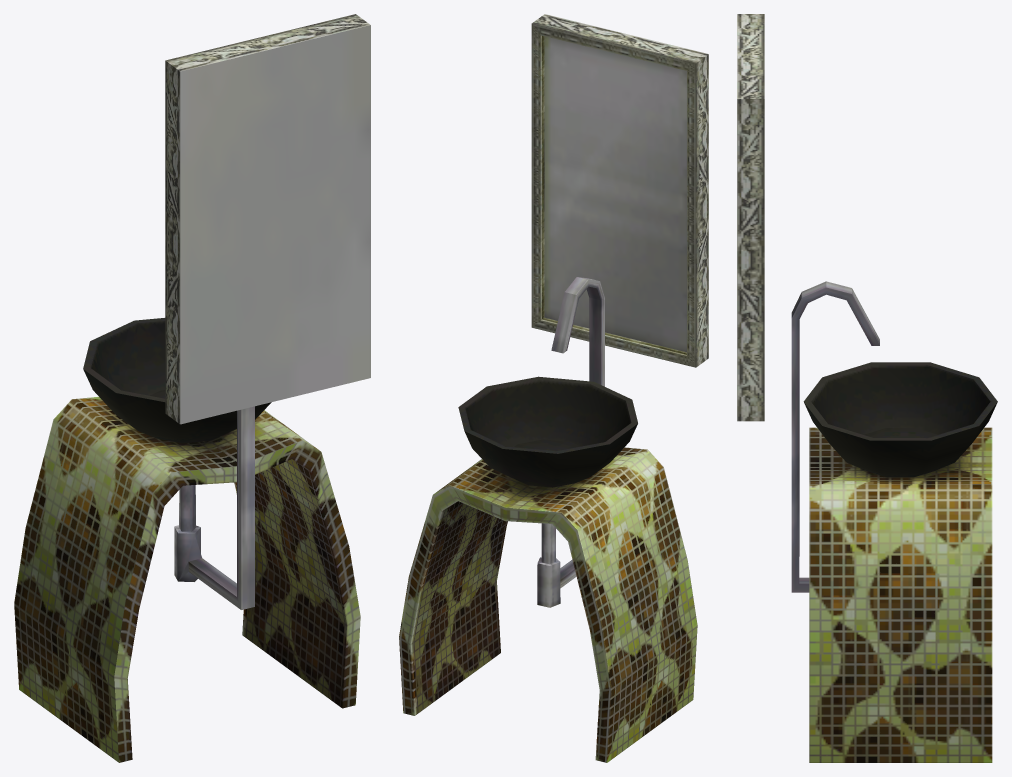
Rendered from furni_0200103_01.FBX.
The picture shows the model from 3 angles, left to right: view 1: azimuth 30°, elevation 25°; view 2: azimuth 150°, elevation 25°; view 3: azimuth 270°, elevation 25°; orthographic projection. The views are drawn at different scales.
Visible parts, largest first — view 1: furni_0200103_01; view 2: furni_0200103_01; view 3: furni_0200103_01.
Boxes of the visible parts, x1,y1,x2,y2 form: furni_0200103_01: (14, 14, 370, 762); furni_0200103_01: (399, 14, 708, 762); furni_0200103_01: (737, 14, 997, 762).
Bounding box in the file's own units: 61.5 × 171 × 61.73.
